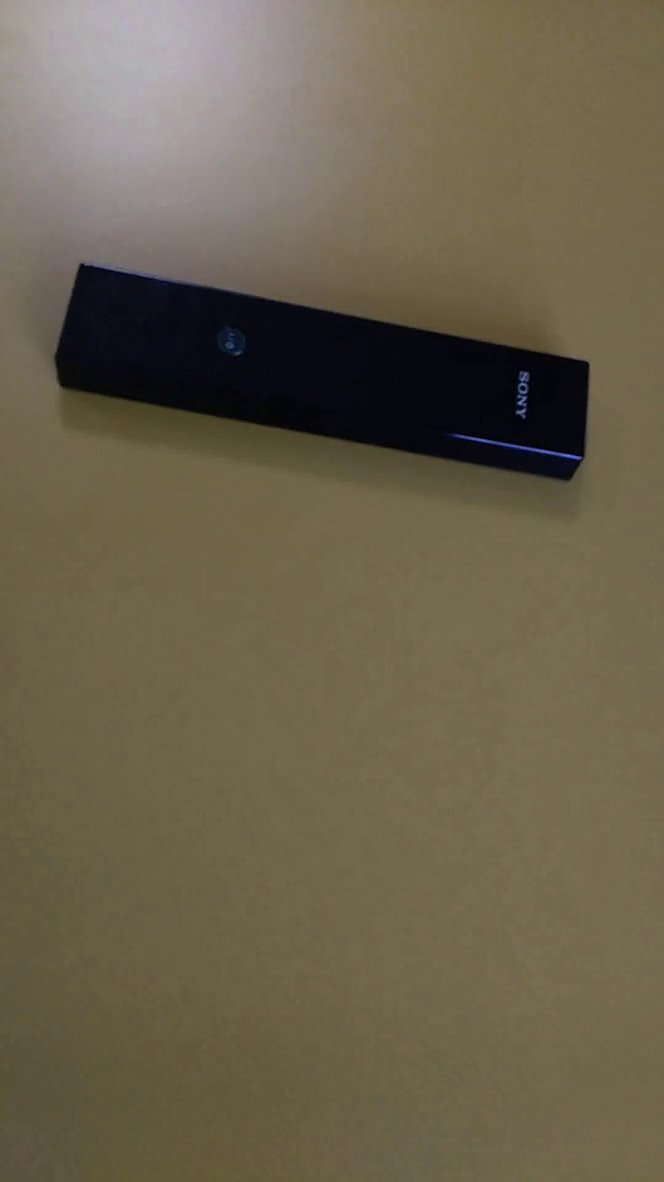remote: (35, 240, 608, 508)
